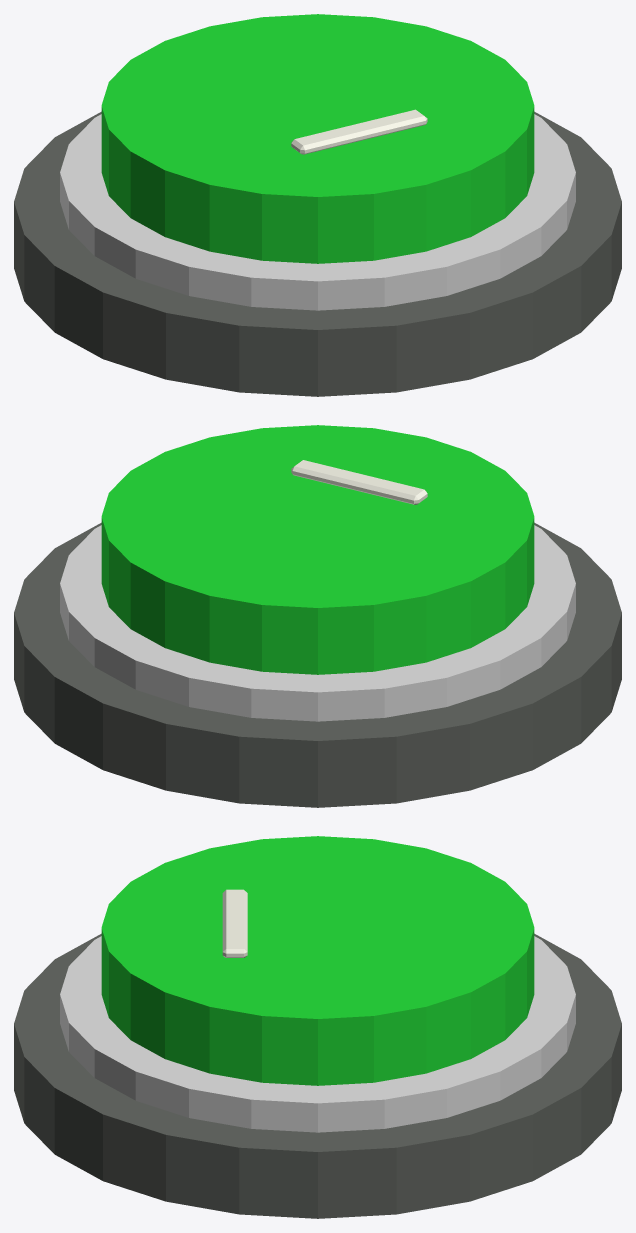
Rendered from terrain-button-35.glb.
3 renders of one model, top to bottom at view 1: azimuth 30°, elevation 25°; view 2: azimuth 150°, elevation 25°; view 3: azimuth 270°, elevation 25°, orthographic.
Visible parts, largest first — view 1: terrain-button-35; view 2: terrain-button-35; view 3: terrain-button-35.
Part boxes in pixels (left/top/right/bottom): terrain-button-35: left=14, top=14, right=621, bottom=396; terrain-button-35: left=14, top=425, right=621, bottom=807; terrain-button-35: left=14, top=836, right=621, bottom=1218.
Size of the model in its own units: 0.66 by 0.205 by 0.66.
